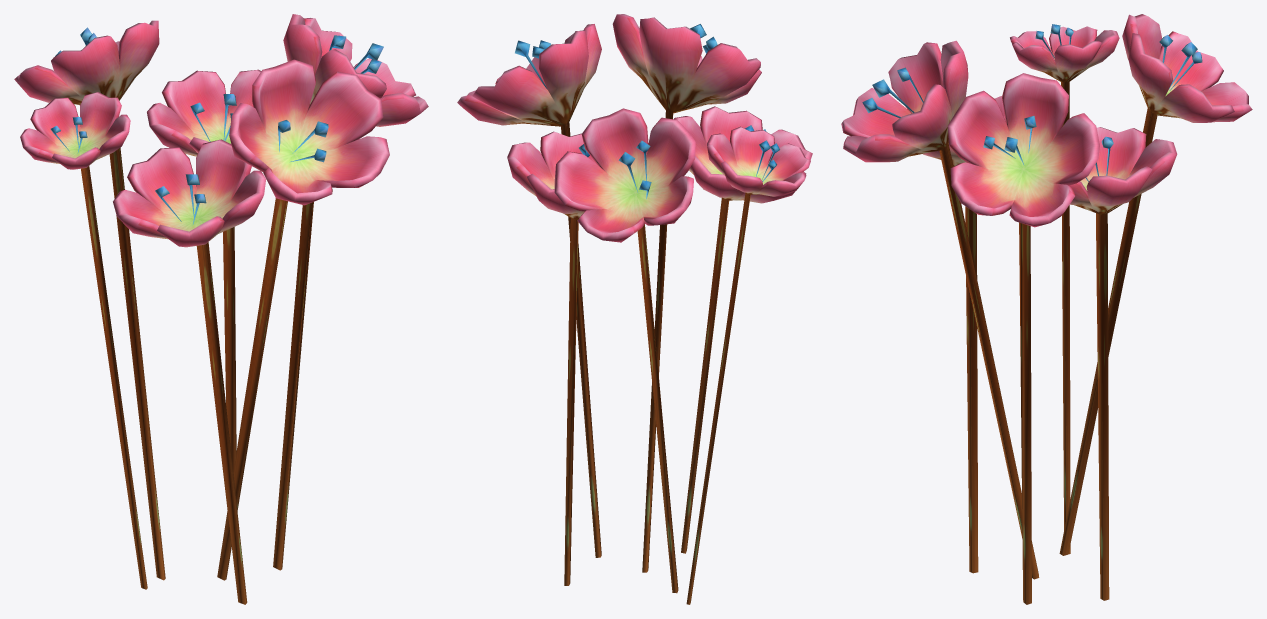
Rendered from n_SWFgogra03c.glb.
The picture shows the model from 3 angles, left to right: view 1: azimuth 30°, elevation 25°; view 2: azimuth 150°, elevation 25°; view 3: azimuth 270°, elevation 25°; orthographic projection. The views are drawn at different scales.
Visible parts, largest first — view 1: n_SWFgogra03c; view 2: n_SWFgogra03c; view 3: n_SWFgogra03c.
Part boxes in pixels (bbox=[...]): n_SWFgogra03c: bbox=[14, 14, 428, 604]; n_SWFgogra03c: bbox=[457, 14, 812, 604]; n_SWFgogra03c: bbox=[841, 14, 1252, 604].
Size of the model in its own units: 0.5758 by 0.8139 by 0.5556.
1 material, 1 textured.
